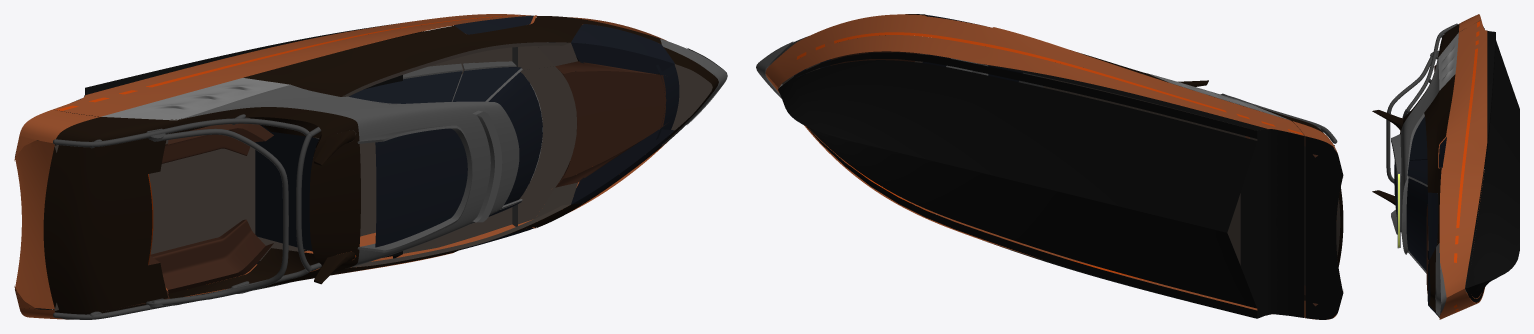
The model's file is speedboat_zefiro.obj.
3 views of the same model, side by side, from view 1: azimuth 30°, elevation 25°; view 2: azimuth 150°, elevation 25°; view 3: azimuth 270°, elevation 25° (orthographic). The views are drawn at different scales.
Size of the model in its own units: 6.5 by 2.07 by 1.79.
